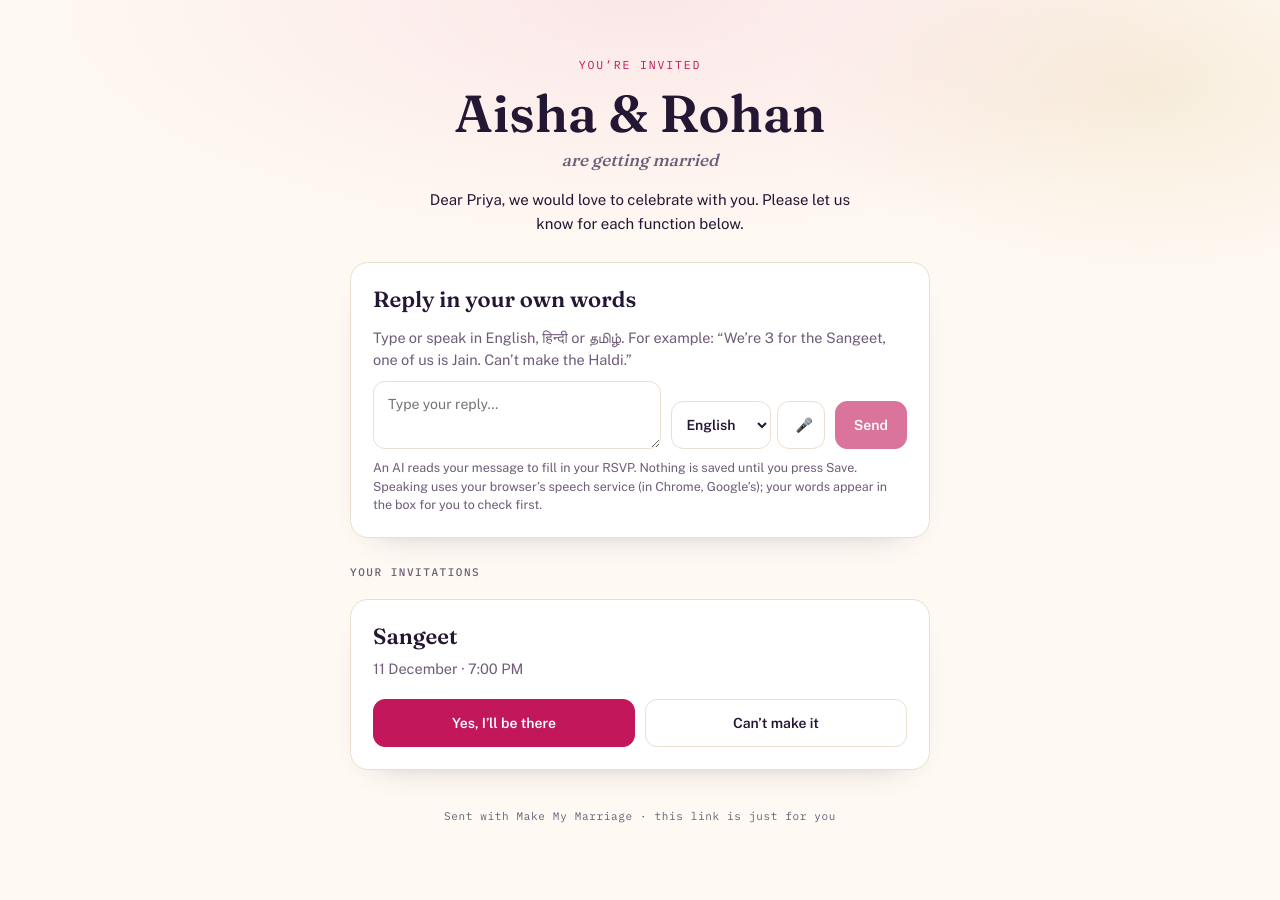
Test: Speaking in the RSVP chat › says how to allow the microphone, and never reads Tamil with an English voice
This screenshot has width=1280, height=900.
Click the button named "Speak your reply". click: (801, 425)
box: [777,401,825,449]
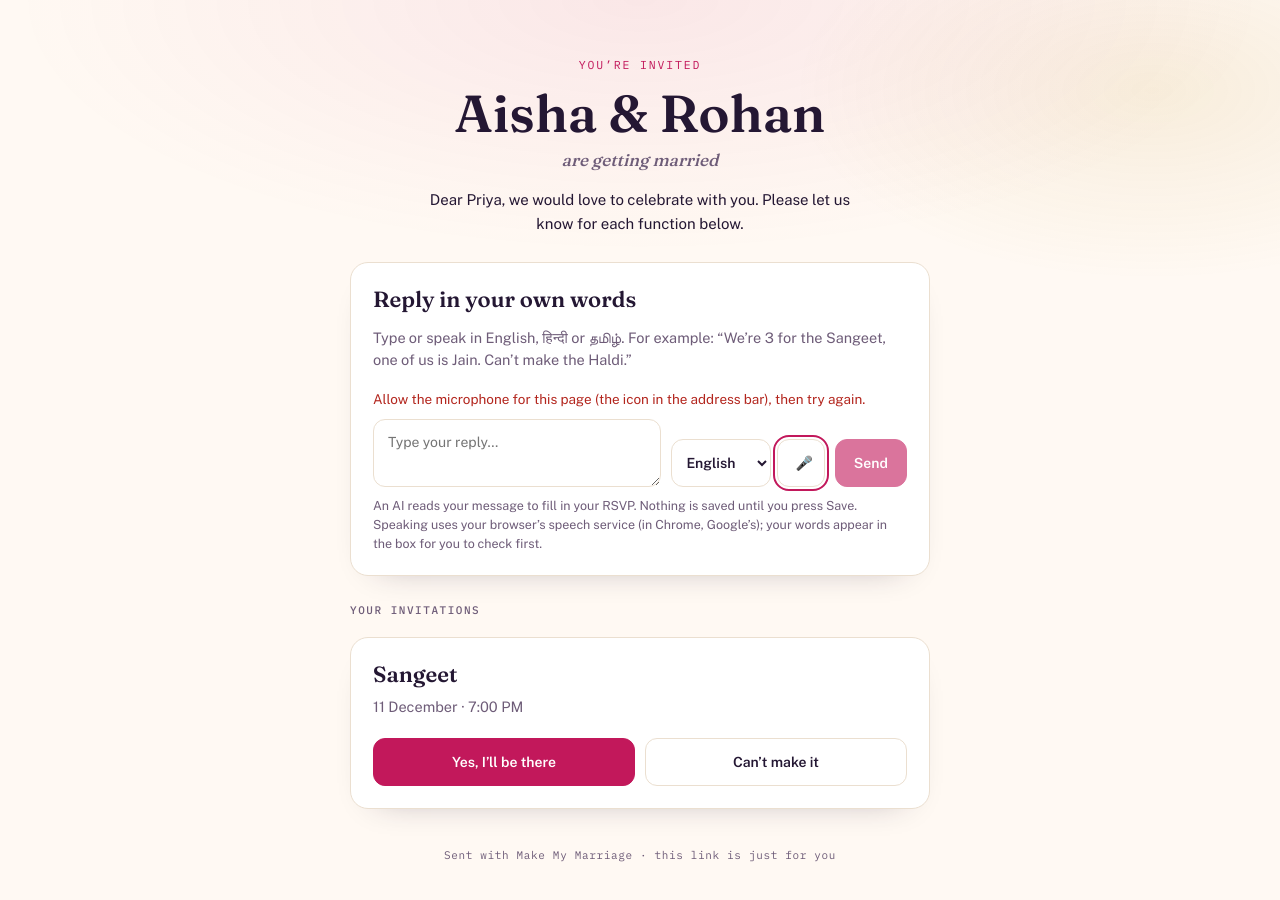
Check: the message shows "Allow the microphone for this page", box [373,391,865,407]
Type "நாங்கள் வருவோம்" into the text box labelled "your reply". click: (517, 453)
box: [373,419,661,487]
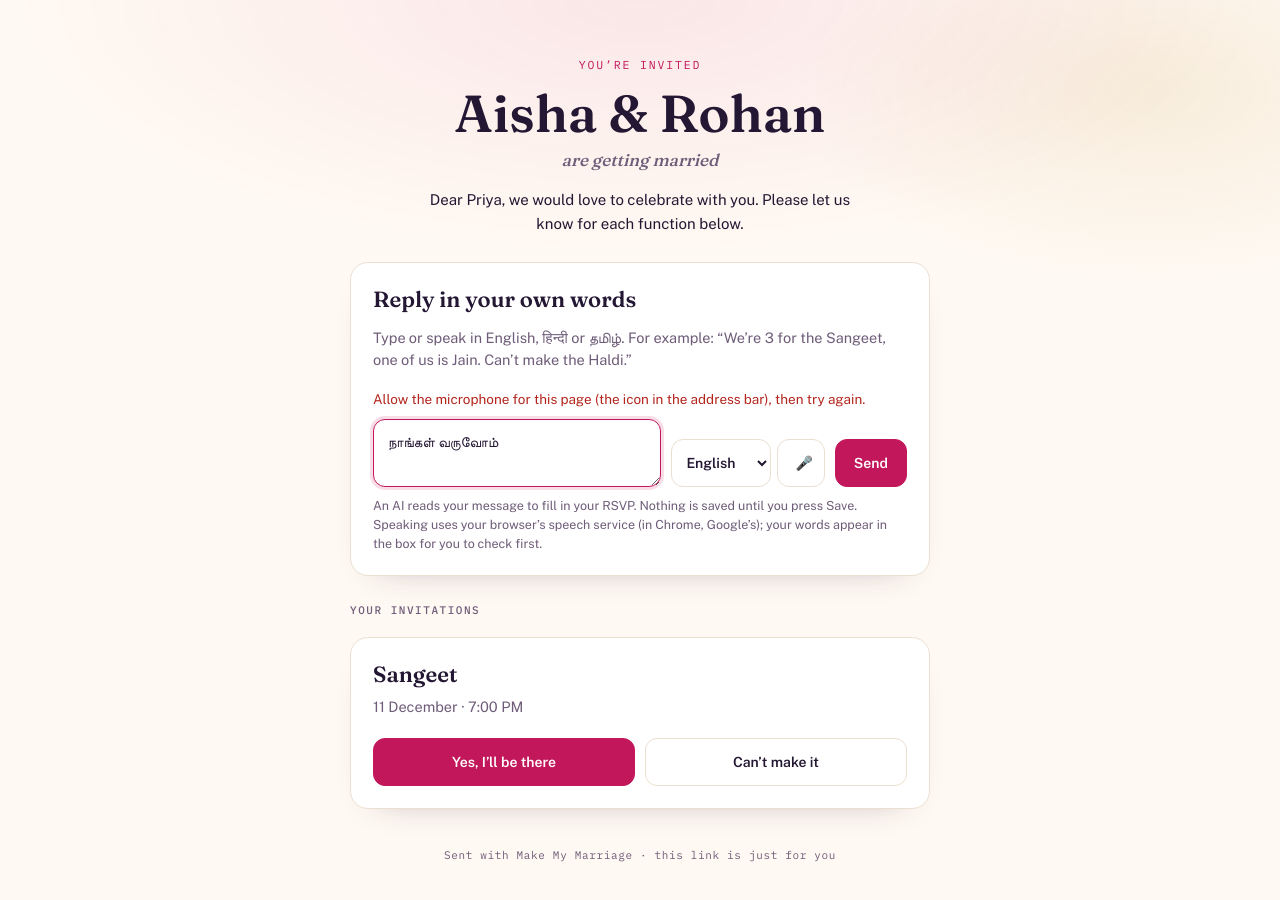
Click the button "Send". click: (871, 463)
box: [835,439,907,487]
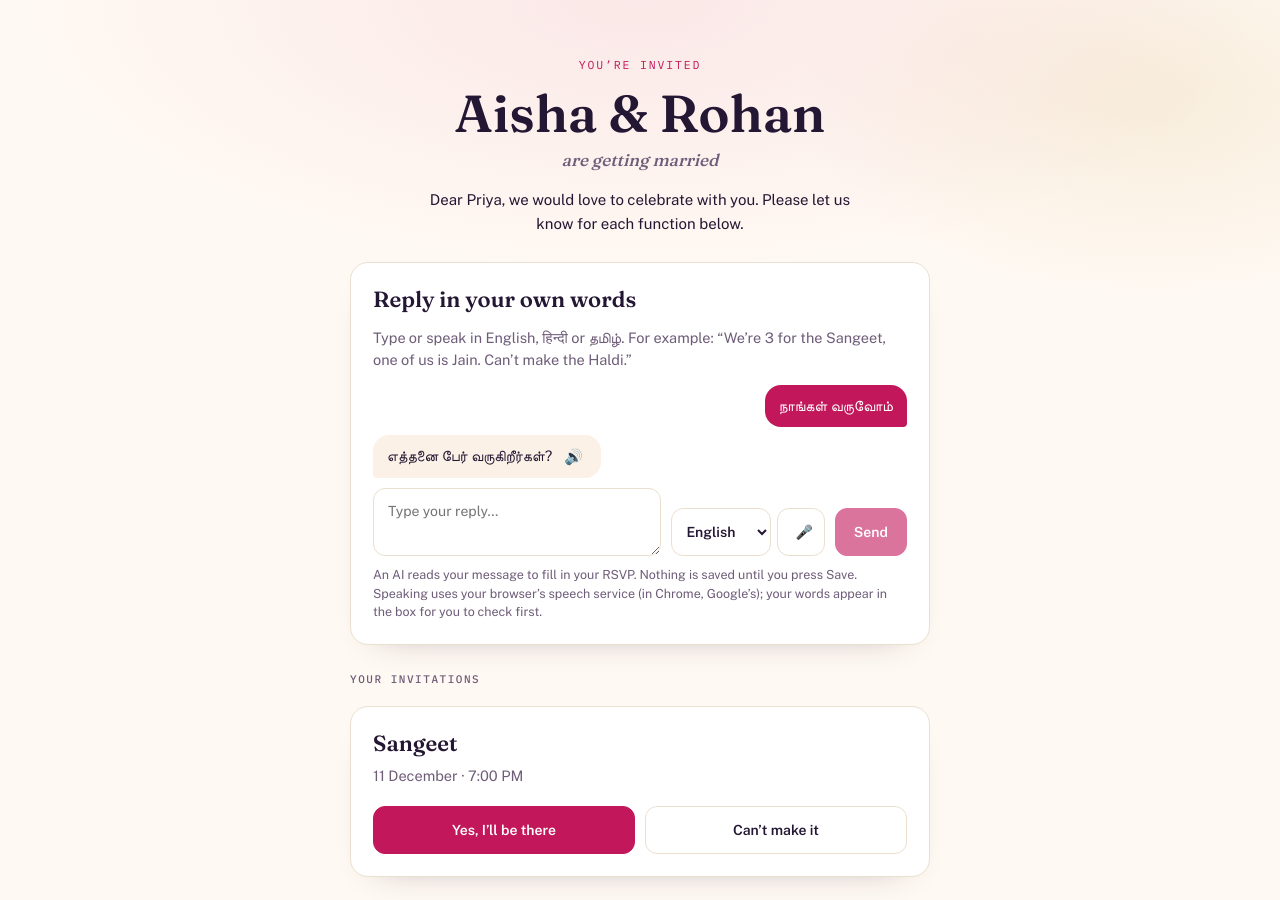
Click the button named "Listen to this reply". click: (574, 457)
box: [560,446,587,468]
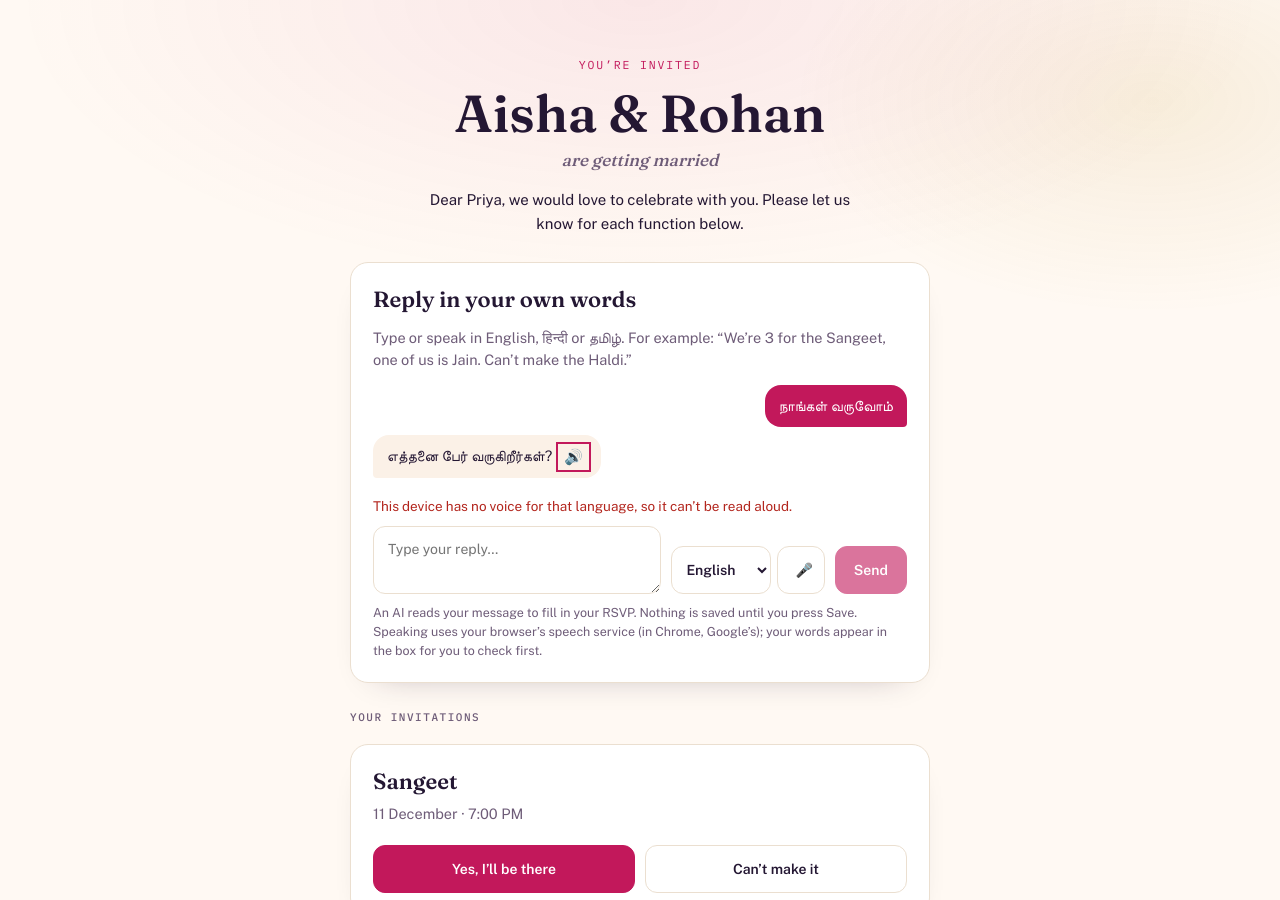
Check: the message shows "no voice for that language", box [373,498,792,514]
